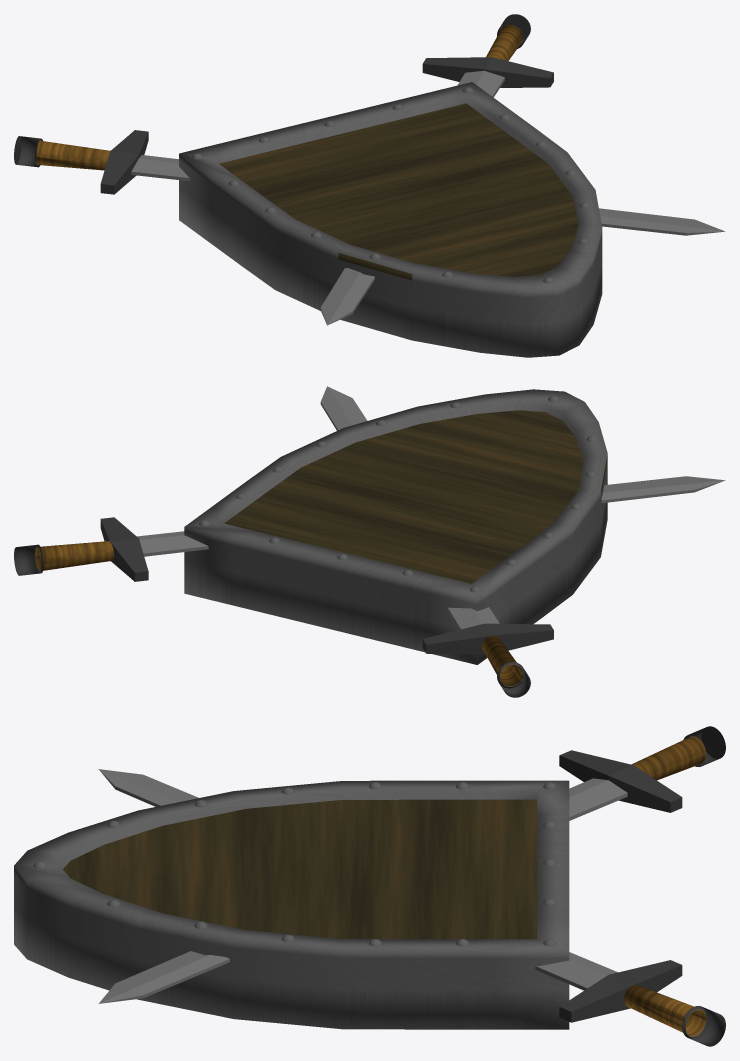
The model's file is shieldAndSwords1.fbx.
The picture shows the model from 3 angles, top to bottom: view 1: azimuth 30°, elevation 25°; view 2: azimuth 150°, elevation 25°; view 3: azimuth 270°, elevation 25°; orthographic projection. The views are drawn at different scales.
Parts seen in each view (by area): view 1: Plane.001; view 2: Plane.001; view 3: Plane.001.
Boxes of the visible parts, x1=… form: Plane.001: x1=14, y1=14, x2=725, y2=357; Plane.001: x1=14, y1=386, x2=725, y2=697; Plane.001: x1=14, y1=726, x2=725, y2=1046.
Bounding box in the file's own units: 406 × 52.4 × 408.
